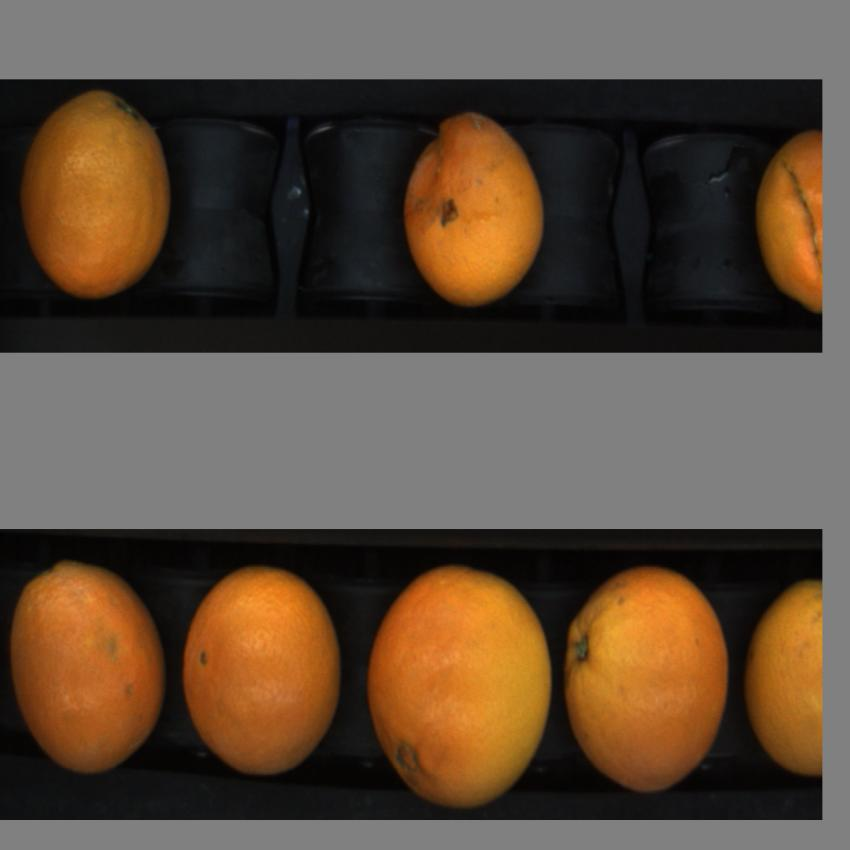Buen estado: (364, 556, 558, 812), (563, 564, 736, 805), (179, 560, 346, 783), (6, 560, 170, 782), (15, 90, 180, 308), (744, 567, 822, 781)
Mal estado: (401, 108, 550, 308), (753, 128, 823, 325)
